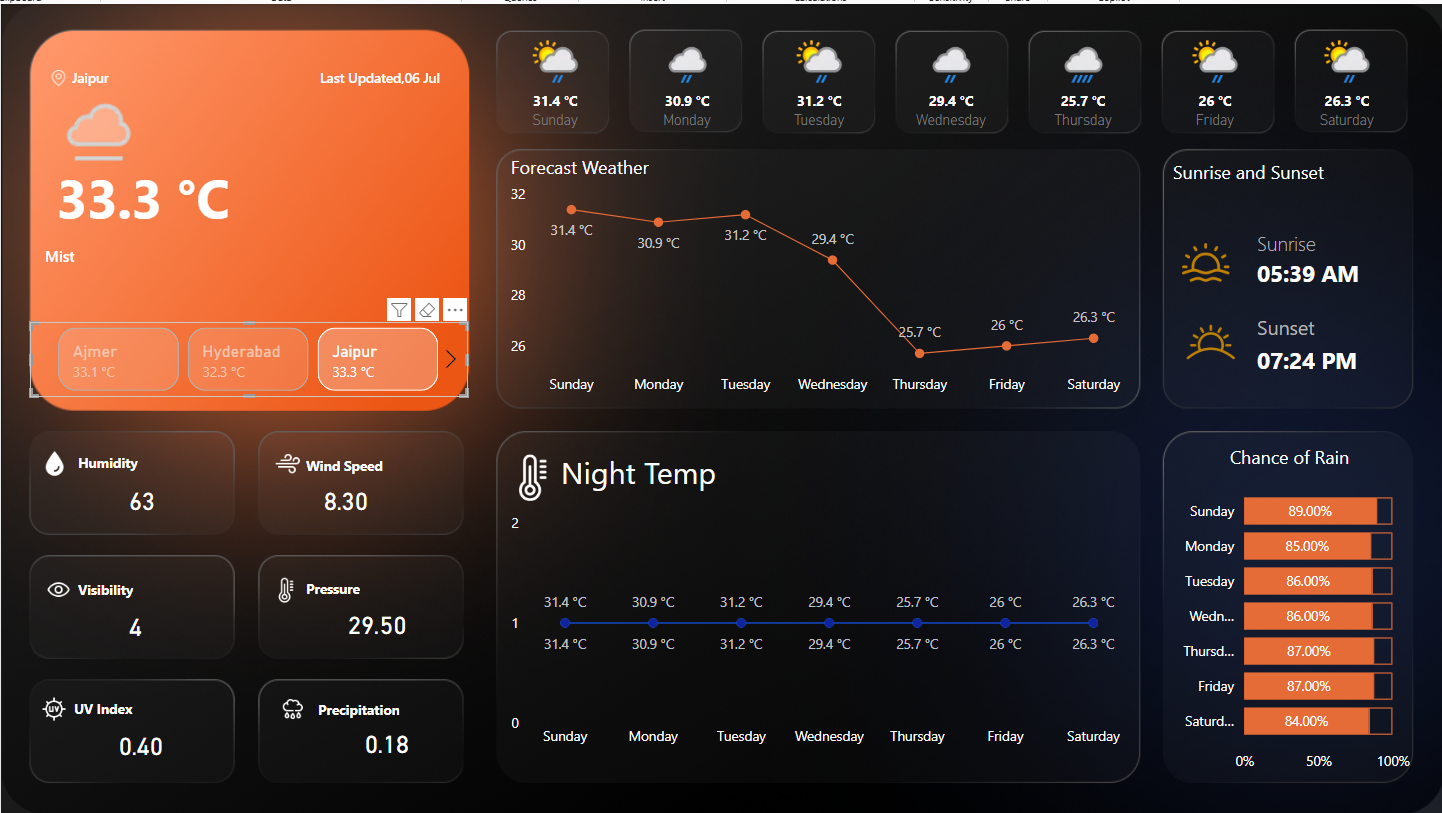

The dashboard page shown, as its layout file describes it:
{"tool":"powerbi","page":{"name":"Page 1","canvas":[1280,720],"ordinal":0},"visuals":[{"type":"advancedSlicerVisual","fields":{"Values":["Location.location.name"]},"box":[25.7,282,388.4,66.5],"z":0},{"type":"shape","box":[49.6,129.4,188.7,82.7],"z":1000},{"type":"shape","box":[38.9,203.3,188.7,40.9],"z":2000},{"type":"shape","box":[63.2,49.6,152.7,30.2],"z":3000},{"type":"shape","box":[238.3,49.6,150.8,30.2],"z":4000},{"type":"image","box":[38.9,50.6,24.3,29.2],"z":5000},{"type":"cardVisual","fields":{"Data":["Min(Current.current.condition.icon)"]},"box":[25.3,50.6,101.2,111.9],"z":6000},{"type":"image","box":[31.1,391,33.1,33.1],"z":7000},{"type":"image","box":[236.4,502.9,32.1,33.1],"z":8000},{"type":"image","box":[236.4,391,34,33.1],"z":9000},{"type":"image","box":[35,502.9,33.1,33.1],"z":10000},{"type":"image","box":[31.1,608.9,32.1,32.1],"z":11000},{"type":"image","box":[236.4,608.9,44.7,32.1],"z":12000},{"type":"shape","box":[68.1,391,95.3,30.2],"z":13000},{"type":"shape","box":[270.4,393.9,94.3,30.2],"z":14000},{"type":"shape","box":[68.1,503.8,121.6,30.2],"z":15000},{"type":"shape","box":[270.4,502.9,108,30.2],"z":16000},{"type":"shape","box":[65.2,608.9,150.8,30.2],"z":17000},{"type":"shape","box":[281.1,608.9,150.8,32.1],"z":18000},{"type":"multiRowCard","fields":{"Values":["Sum(Current.current.humidity)"]},"box":[108.2,423.8,107.3,36.4],"z":19000},{"type":"multiRowCard","fields":{"Values":["Sum(Current.current.vis_km)"]},"box":[108.2,535.6,107.3,35.5],"z":20000},{"type":"multiRowCard","fields":{"Values":["Sum(Current.current.pressure_in)"]},"box":[302.4,533.8,107.3,44.3],"z":21000},{"type":"multiRowCard","fields":{"Values":["Sum(Current.current.uv)"]},"box":[99.3,641.1,107.3,44.3],"z":22000},{"type":"multiRowCard","fields":{"Values":["Sum(Current.current.precip_mm)"]},"box":[317.4,639.3,107.3,44.3],"z":23000},{"type":"multiRowCard","fields":{"Values":["Sum(Current.current.wind_kph)"]},"box":[280.8,424.1,107,43.9],"z":24000},{"type":"advancedSlicerVisual","fields":{"Values":["Forecast_Day.DAY"]},"box":[431.8,19.1,822.4,109.9],"z":25000},{"type":"lineChart","title":"Forecast Weather","fields":{"Y":["Sum(Forecast_Day.forecast.forecastday.day.avgtemp_c)"],"Category":["Forecast_Day.DAY"]},"box":[447,133.7,557.9,221.6],"z":26000},{"type":"shape","box":[1039.3,133.7,176.7,29.6],"z":27000},{"type":"shape","box":[1113.8,212.1,148.1,53.5],"z":28000},{"type":"shape","box":[1113.8,286.6,148.1,56.4],"z":29000},{"type":"shape","box":[1113.8,185.3,148.1,53.5],"z":30000},{"type":"shape","box":[1113.8,259.8,148.1,53.5],"z":31000},{"type":"image","box":[1039.3,203.5,57.3,51.6],"z":32000},{"type":"image","box":[1039.3,265.6,66.9,68.8],"z":33000},{"type":"hundredPercentStackedBarChart","title":"Chance of Rain","fields":{"Category":["Forecast_Day.DAY"],"Y":["Sum(Forecast_Day.forecast.forecastday.day.daily_chance_of_rain)","Current.Left_rain_value"]},"box":[1031.6,390.7,222.6,299],"z":34000},{"type":"shape","box":[496.7,387.8,163.3,54.4],"z":35000},{"type":"image","box":[446.1,394.5,50.6,50.6],"z":36000},{"type":"lineChart","title":"Forecast Weather","fields":{"Y":["CountNonNull(Forecast_Day.forecast.forecastday.astro.moonrise)","CountNonNull(Forecast_Day.forecast.forecastday.astro.moonset)"],"Category":["Forecast_Day.DAY"]},"box":[447,446.1,557.9,221.6],"z":37000}]}

Visuals, with their boxes in screenshot pixels (x1, y1, x2, y2), scaled from the page's 1280x720 canvas onto the 1442x813 screenshot:
advancedSlicerVisual - Location.location.name: rect(29, 318, 467, 394)
shape: rect(56, 146, 268, 239)
shape: rect(44, 230, 256, 276)
shape: rect(71, 56, 243, 90)
shape: rect(268, 56, 438, 90)
image: rect(44, 57, 71, 90)
cardVisual - Min(Current.current.condition.icon): rect(29, 57, 143, 183)
image: rect(35, 442, 72, 479)
image: rect(266, 568, 302, 605)
image: rect(266, 442, 305, 479)
image: rect(39, 568, 77, 605)
image: rect(35, 688, 71, 724)
image: rect(266, 688, 317, 724)
shape: rect(77, 442, 184, 476)
shape: rect(305, 445, 411, 479)
shape: rect(77, 569, 214, 603)
shape: rect(305, 568, 426, 602)
shape: rect(73, 688, 243, 722)
shape: rect(317, 688, 487, 724)
multiRowCard - Sum(Current.current.humidity): rect(122, 479, 243, 520)
multiRowCard - Sum(Current.current.vis_km): rect(122, 605, 243, 645)
multiRowCard - Sum(Current.current.pressure_in): rect(341, 603, 462, 653)
multiRowCard - Sum(Current.current.uv): rect(112, 724, 233, 774)
multiRowCard - Sum(Current.current.precip_mm): rect(358, 722, 478, 772)
multiRowCard - Sum(Current.current.wind_kph): rect(316, 479, 437, 528)
advancedSlicerVisual - Forecast_Day.DAY: rect(486, 22, 1413, 146)
"Forecast Weather" lineChart: rect(504, 151, 1132, 401)
shape: rect(1171, 151, 1370, 184)
shape: rect(1255, 239, 1422, 300)
shape: rect(1255, 324, 1422, 387)
shape: rect(1255, 209, 1422, 270)
shape: rect(1255, 293, 1422, 354)
image: rect(1171, 230, 1235, 288)
image: rect(1171, 300, 1246, 378)
"Chance of Rain" hundredPercentStackedBarChart: rect(1162, 441, 1413, 779)
shape: rect(560, 438, 744, 499)
image: rect(503, 445, 560, 503)
"Forecast Weather" lineChart: rect(504, 504, 1132, 754)
